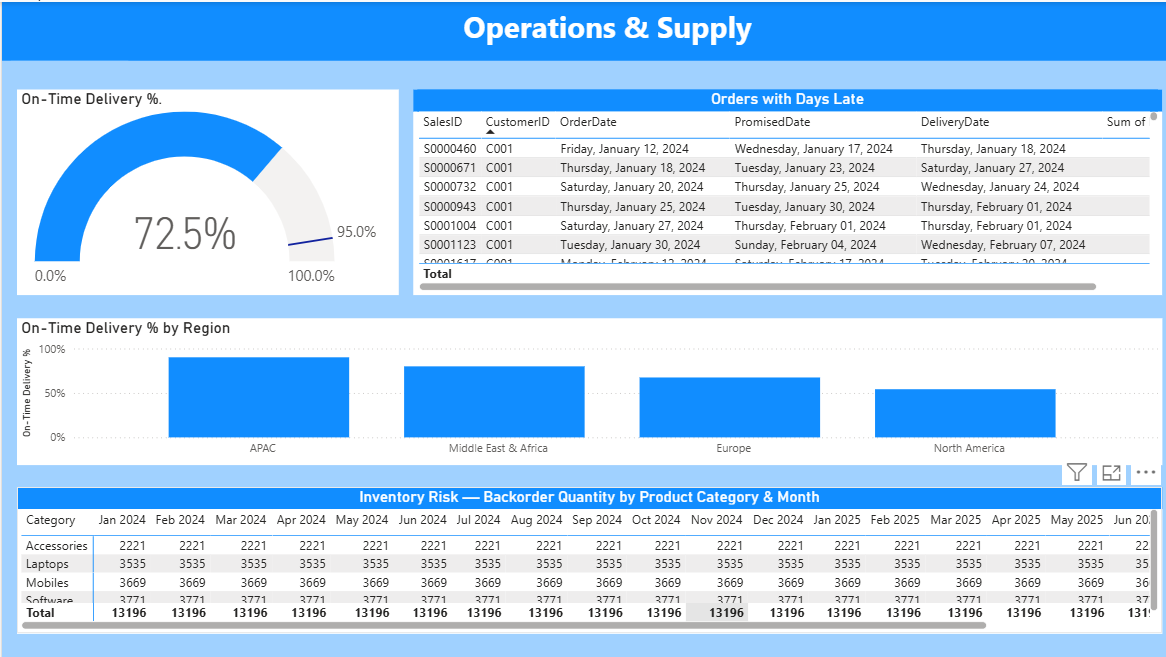

Layout of this report page (visuals, bound fields, positions):
{"tool":"powerbi","page":{"name":"Operations & Supply","canvas":[1280,720],"ordinal":2},"visuals":[{"type":"textbox","box":[10,0,128,64],"z":0},{"type":"textbox","box":[0,0,1280,64],"z":1000},{"type":"gauge","title":"On-Time Delivery %.","fields":{"Y":["Measures (2).On-Time Delivery %"],"TargetValue":["Measures (2).Target On-Time Delivery %"]},"box":[16,96,416,224],"z":2000},{"type":"clusteredColumnChart","fields":{"Category":["dim_customer.Region"],"Y":["Measures (2).On-Time Delivery %"]},"box":[16,344,1248,160],"z":3000},{"type":"tableEx","title":"Orders with Days Late","fields":{"Values":["fact_orders.SalesID","fact_orders.CustomerID","fact_orders.OrderDate","fact_orders.PromisedDate","fact_orders.DeliveryDate","Sum(fact_orders.Days Late)"]},"box":[448,96,816,224],"z":4000},{"type":"pivotTable","title":"Inventory Risk — Backorder Quantity by Product Category & Month","fields":{"Rows":["dim_product.Category"],"Columns":["dim_date.MonthLabel"],"Values":["Sum(fact_inventory.BackorderQty)"]},"box":[16,528,1248,160],"z":5000}]}

Visuals, with their boxes in screenshot pixels (x1, y1, x2, y2), scaled from the page's 1280x720 canvas onto the 1166x657 screenshot:
textbox: region(9, 0, 126, 58)
textbox: region(0, 0, 1165, 58)
"On-Time Delivery %." gauge: region(15, 88, 394, 292)
clusteredColumnChart - dim_customer.Region x Measures (2).On-Time Delivery %: region(15, 314, 1151, 460)
"Orders with Days Late" tableEx: region(408, 88, 1151, 292)
"Inventory Risk — Backorder Quantity by Product Category & Month" pivotTable: region(15, 482, 1151, 628)
